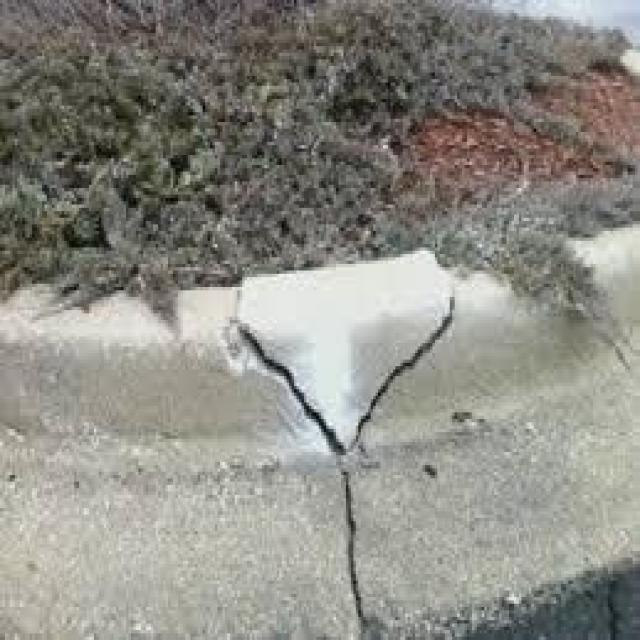curb: (1, 215, 637, 640)
